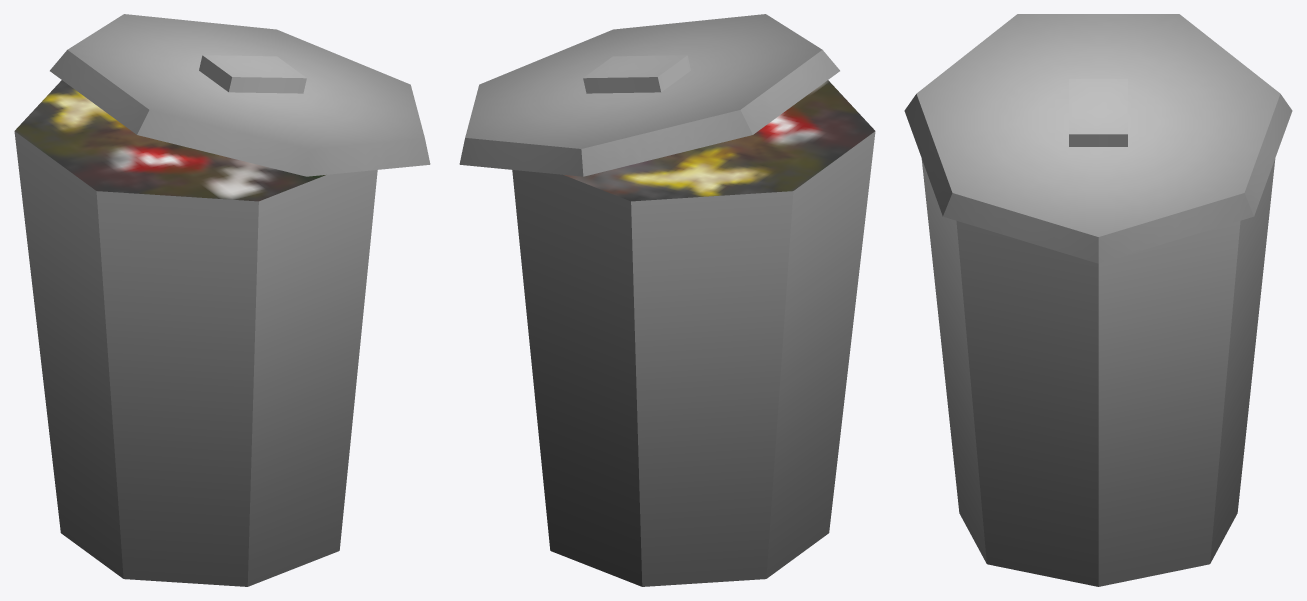
The model's file is trashbin.fbx.
3 renders of one model, left to right at view 1: azimuth 30°, elevation 25°; view 2: azimuth 150°, elevation 25°; view 3: azimuth 270°, elevation 25°, orthographic.
Visible parts, largest first — view 1: polySurface10; view 2: polySurface10; view 3: polySurface10.
Boxes of the visible parts, left/top/right/bottom form: polySurface10: left=14, top=14, right=430, bottom=586; polySurface10: left=459, top=14, right=875, bottom=586; polySurface10: left=904, top=14, right=1292, bottom=586.
Size of the model in its own units: 7.31 by 9.17 by 6.92.
Materials: 1 (1 with a texture image).
